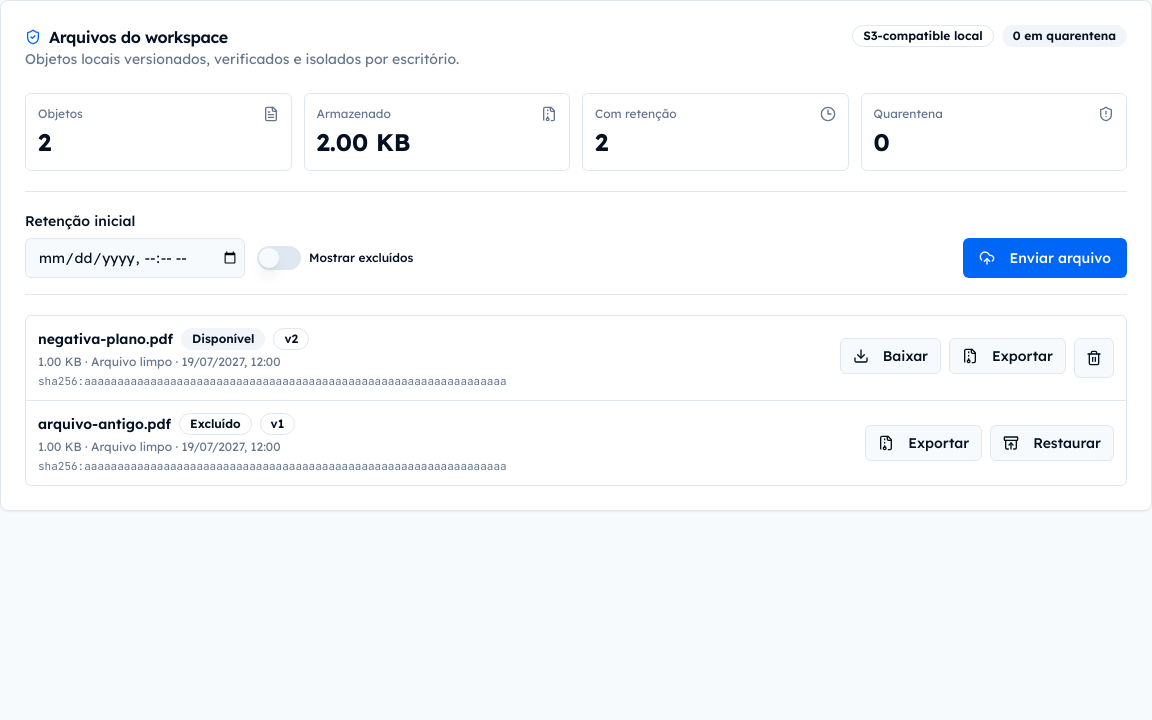
Test case: LocalStoragePanel › uploads, exposes versions and downloads only through local object actions
This screenshot has width=1152, height=720.
Later steps or results of the test are not shown.
Click the text "negativa-plano.pdf". click: x=106, y=339
box: [38,329,173,349]
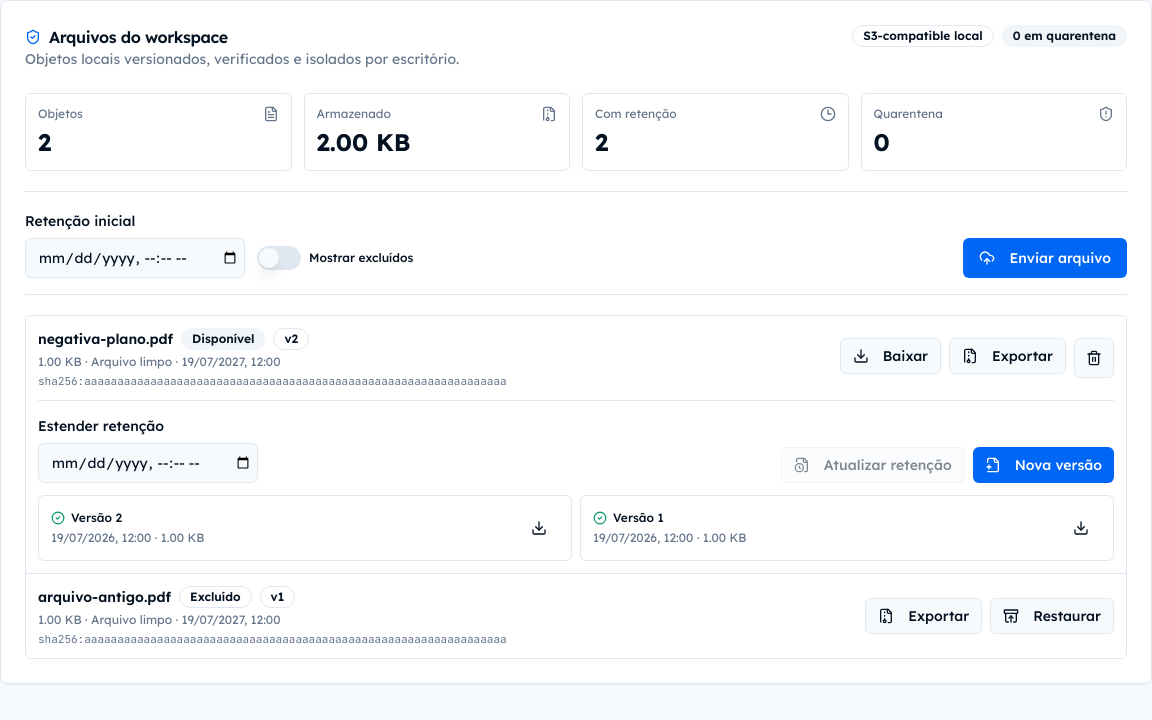
Now the text "Versão 2" is shown, box [51,510,122,525]
Now the text "Versão 1" is shown, box [593,510,664,525]
